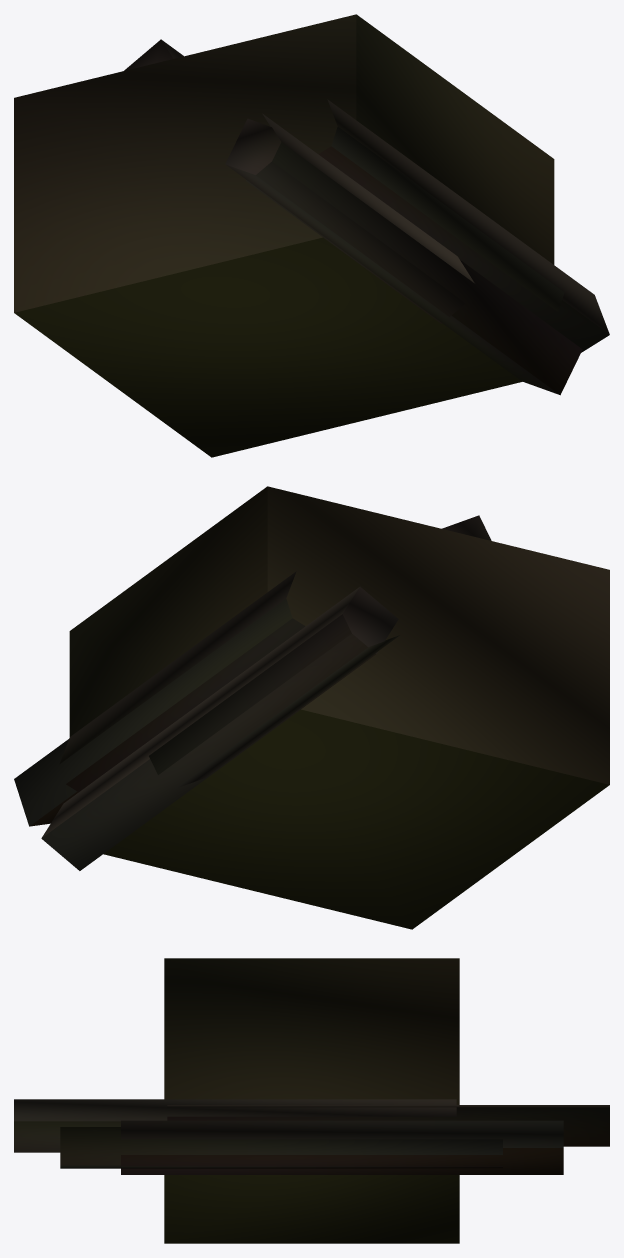
File: spider_v3.glb
3 views of the same model, one above another, from view 1: azimuth 30°, elevation 25°; view 2: azimuth 150°, elevation 25°; view 3: azimuth 270°, elevation 25° (orthographic). The views are drawn at different scales.
Size of the model in its own units: 0.4951 by 0.2971 by 1.
